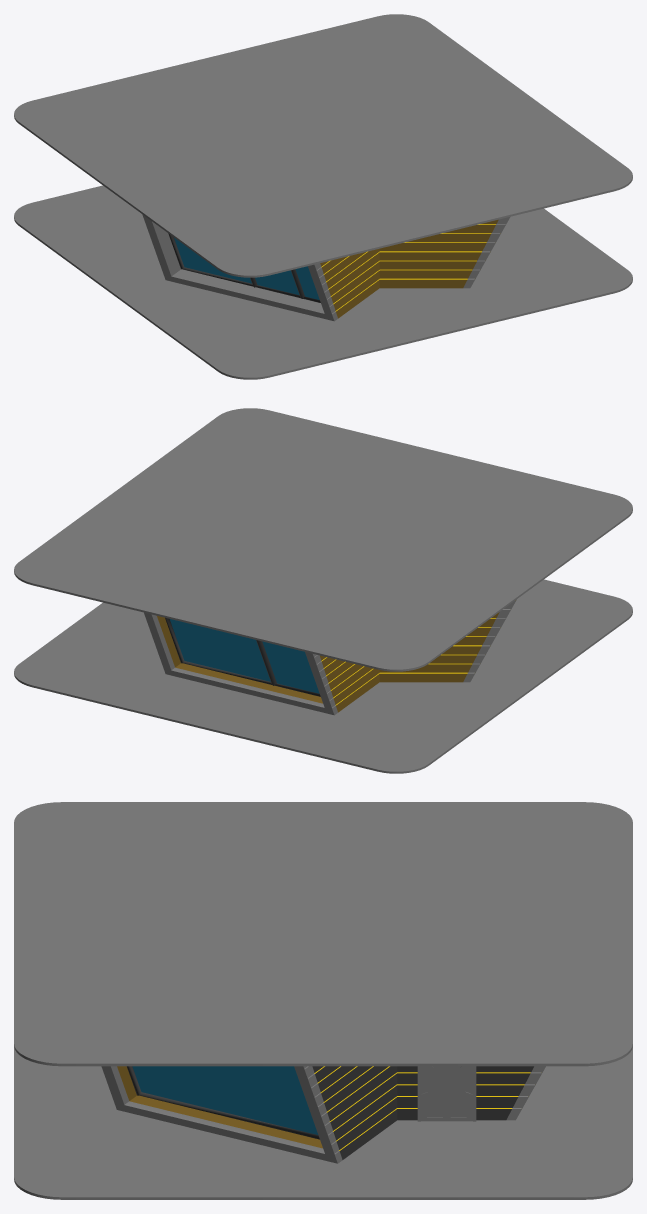
The picture shows the model from 3 angles, top to bottom: view 1: azimuth 30°, elevation 25°; view 2: azimuth 150°, elevation 25°; view 3: azimuth 270°, elevation 25°; orthographic projection. The views are drawn at different scales.
Parts seen in each view (by area): view 1: SM_MK12_Base_001; view 2: SM_MK12_Base_001; view 3: SM_MK12_Base_001.
Part boxes in pixels (bbox=[...]): SM_MK12_Base_001: bbox=[14, 14, 632, 379]; SM_MK12_Base_001: bbox=[14, 408, 632, 773]; SM_MK12_Base_001: bbox=[14, 802, 632, 1199].
Size of the model in its own units: 2100 by 510 by 2100.
